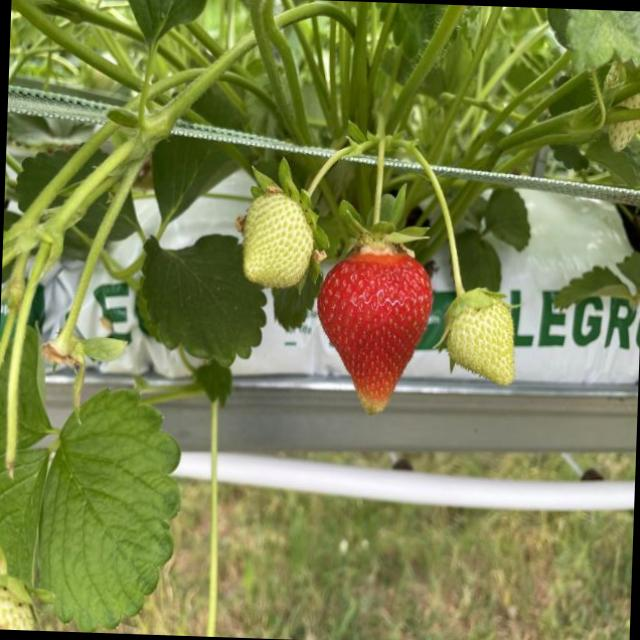stem: (409, 143, 502, 333), (342, 136, 426, 258), (279, 141, 373, 249), (252, 172, 276, 195)
strawberryNR: (243, 192, 313, 287), (446, 293, 514, 384)
strawberryR: (317, 248, 432, 414)
